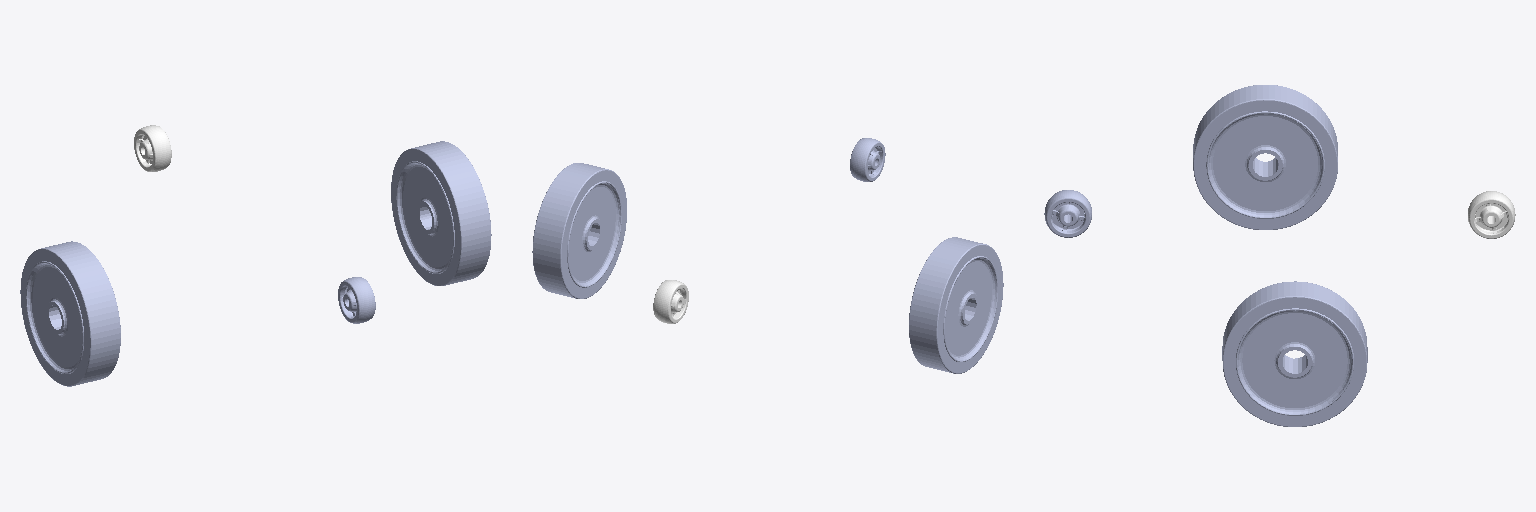
URDF robot description (copy):
<?xml version="1.0" encoding="utf-8"?>
<!-- This URDF was automatically created by SolidWorks to URDF Exporter! Originally created by [author] ([email redacted]) 
     Commit Version: 1.5.1-0-g916b5db  Build Version: 1.5.7152.31018
     For more information, please see http://wiki.ros.org/sw_urdf_exporter -->
<robot
  name="copy">
  <link
    name="base_link">
    <inertial>
      <origin
        xyz="0.23103 -0.082447 0.358"
        rpy="0 0 0" />
      <mass
        value="8.4976" />
      <inertia
        ixx="0.86866"
        ixy="-6.0026E-06"
        ixz="-2.169E-06"
        iyy="0.080257"
        iyz="9.0428E-06"
        izz="0.86315" />
    </inertial>
    <visual>
      <origin
        xyz="0 0 0"
        rpy="0 0 0" />
      <geometry>
        <mesh
          filename="package://copy/meshes/base_link.STL" />
      </geometry>
      <material
        name="">
        <color
          rgba="0.79216 0.81961 0.93333 1" />
      </material>
    </visual>
    <collision>
      <origin
        xyz="0 0 0"
        rpy="0 0 0" />
      <geometry>
        <mesh
          filename="package://copy/meshes/base_link.STL" />
      </geometry>
    </collision>
  </link>
  <link
    name="castor">
    <inertial>
      <origin
        xyz="0.15587 0.0012594 0.45536"
        rpy="0 0 0" />
      <mass
        value="9.2329" />
      <inertia
        ixx="1.3558"
        ixy="-0.0018707"
        ixz="0.010618"
        iyy="1.3402"
        iyz="1.1948E-05"
        izz="0.15458" />
    </inertial>
    <visual>
      <origin
        xyz="0 0 0"
        rpy="0 0 0" />
      <geometry>
        <mesh
          filename="package://copy/meshes/castor.STL" />
      </geometry>
      <material
        name="">
        <color
          rgba="0.79216 0.81961 0.93333 1" />
      </material>
    </visual>
    <collision>
      <origin
        xyz="0 0 0"
        rpy="0 0 0" />
      <geometry>
        <mesh
          filename="package://copy/meshes/castor.STL" />
      </geometry>
    </collision>
  </link>
  <joint
    name="1"
    type="fixed">
    <origin
      xyz="0.22976 -0.51408 0.41208"
      rpy="3.1416 0 1.5708" />
    <parent
      link="base_link" />
    <child
      link="castor" />
    <axis
      xyz="0 0 0" />
  </joint>
  <link
    name="left_wheel">
    <inertial>
      <origin
        xyz="-4.9960036108132E-16 0.015875 -1.66533453693773E-15"
        rpy="0 0 0" />
      <mass
        value="0.34919949426105" />
      <inertia
        ixx="0.000403477805923709"
        ixy="-3.16390506015085E-20"
        ixz="-5.42101086242752E-20"
        iyy="0.000758098830283409"
        iyz="7.05771925366499E-20"
        izz="0.000403477805923709" />
    </inertial>
    <visual>
      <origin
        xyz="0 0 0"
        rpy="0 0 0" />
      <geometry>
        <mesh
          filename="package://copy/meshes/left_wheel.STL" />
      </geometry>
      <material
        name="">
        <color
          rgba="0.792156862745098 0.819607843137255 0.933333333333333 1" />
      </material>
    </visual>
    <collision>
      <origin
        xyz="0 0 0"
        rpy="0 0 0" />
      <geometry>
        <mesh
          filename="package://copy/meshes/left_wheel.STL" />
      </geometry>
    </collision>
  </link>
  <joint
    name="3"
    type="fixed">
    <origin
      xyz="0.4477 -0.34773 0.40747"
      rpy="3.1416 1.1461 -1.5708" />
    <parent
      link="base_link" />
    <child
      link="left_wheel" />
    <axis
      xyz="0 0 0" />
  </joint>
  <link
    name="right_wheel">
    <inertial>
      <origin
        xyz="-2.2204E-16 0.015875 -2.7756E-17"
        rpy="0 0 0" />
      <mass
        value="0.3492" />
      <inertia
        ixx="0.00040348"
        ixy="-2.4541E-20"
        ixz="4.0658E-20"
        iyy="0.0007581"
        iyz="-5.3829E-20"
        izz="0.00040348" />
    </inertial>
    <visual>
      <origin
        xyz="0 0 0"
        rpy="0 0 0" />
      <geometry>
        <mesh
          filename="package://copy/meshes/right_wheel.STL" />
      </geometry>
      <material
        name="">
        <color
          rgba="0.79216 0.81961 0.93333 1" />
      </material>
    </visual>
    <collision>
      <origin
        xyz="0 0 0"
        rpy="0 0 0" />
      <geometry>
        <mesh
          filename="package://copy/meshes/right_wheel.STL" />
      </geometry>
    </collision>
  </link>
  <joint
    name="4"
    type="fixed">
    <origin
      xyz="0.048697 -0.37344 0.41167"
      rpy="0 0.54686 1.5708" />
    <parent
      link="base_link" />
    <child
      link="right_wheel" />
    <axis
      xyz="0 0 0" />
  </joint>
  <link
    name="castor2">
    <inertial>
      <origin
        xyz="0 0 0"
        rpy="0 0 0" />
      <mass
        value="0" />
      <inertia
        ixx="0"
        ixy="0"
        ixz="0"
        iyy="0"
        iyz="0"
        izz="0" />
    </inertial>
    <visual>
      <origin
        xyz="0 0 0"
        rpy="0 0 0" />
      <geometry>
        <mesh
          filename="package://copy/meshes/castor2.STL" />
      </geometry>
      <material
        name="">
        <color
          rgba="1 1 1 1" />
      </material>
    </visual>
    <collision>
      <origin
        xyz="0 0 0"
        rpy="0 0 0" />
      <geometry>
        <mesh
          filename="package://copy/meshes/castor2.STL" />
      </geometry>
    </collision>
  </link>
  <joint
    name="2"
    type="fixed">
    <origin
      xyz="0.23213 -0.20766 0.41208"
      rpy="3.1416 0 -1.5708" />
    <parent
      link="base_link" />
    <child
      link="castor2" />
    <axis
      xyz="0 0 0" />
  </joint>
</robot>

--- Render facts (derived) ---
The picture shows the robot from 3 angles, left to right: view 1: azimuth 30°, elevation 25°; view 2: azimuth 150°, elevation 25°; view 3: azimuth 270°, elevation 25°; orthographic projection.
Model copy with 5 links and 4 joints (4 fixed), rooted at base_link, posed all joints at 0.
Links seen in each view (by area): view 1: right_wheel, left_wheel, castor, castor2; view 2: right_wheel, left_wheel, castor2, castor; view 3: left_wheel, right_wheel, castor, castor2.
Boxes of the visible links, x1,y1,x2,y2 form: right_wheel: (20,241,120,386); left_wheel: (391,141,491,285); castor: (338,277,375,323); castor2: (134,125,171,171); right_wheel: (909,237,1003,373); left_wheel: (532,163,626,298); castor2: (653,280,688,323); castor: (850,138,885,181); left_wheel: (1222,281,1367,426); right_wheel: (1193,85,1337,229); castor: (1044,190,1091,237); castor2: (1468,191,1515,238).
Size in the robot's own frame: 0.4328 by 0.4124 by 0.1312 metres.
4 mesh visuals loaded from 5 distinct referenced files (4 binary STL); not drawn: 1 (reference not matched to a file when rendering).